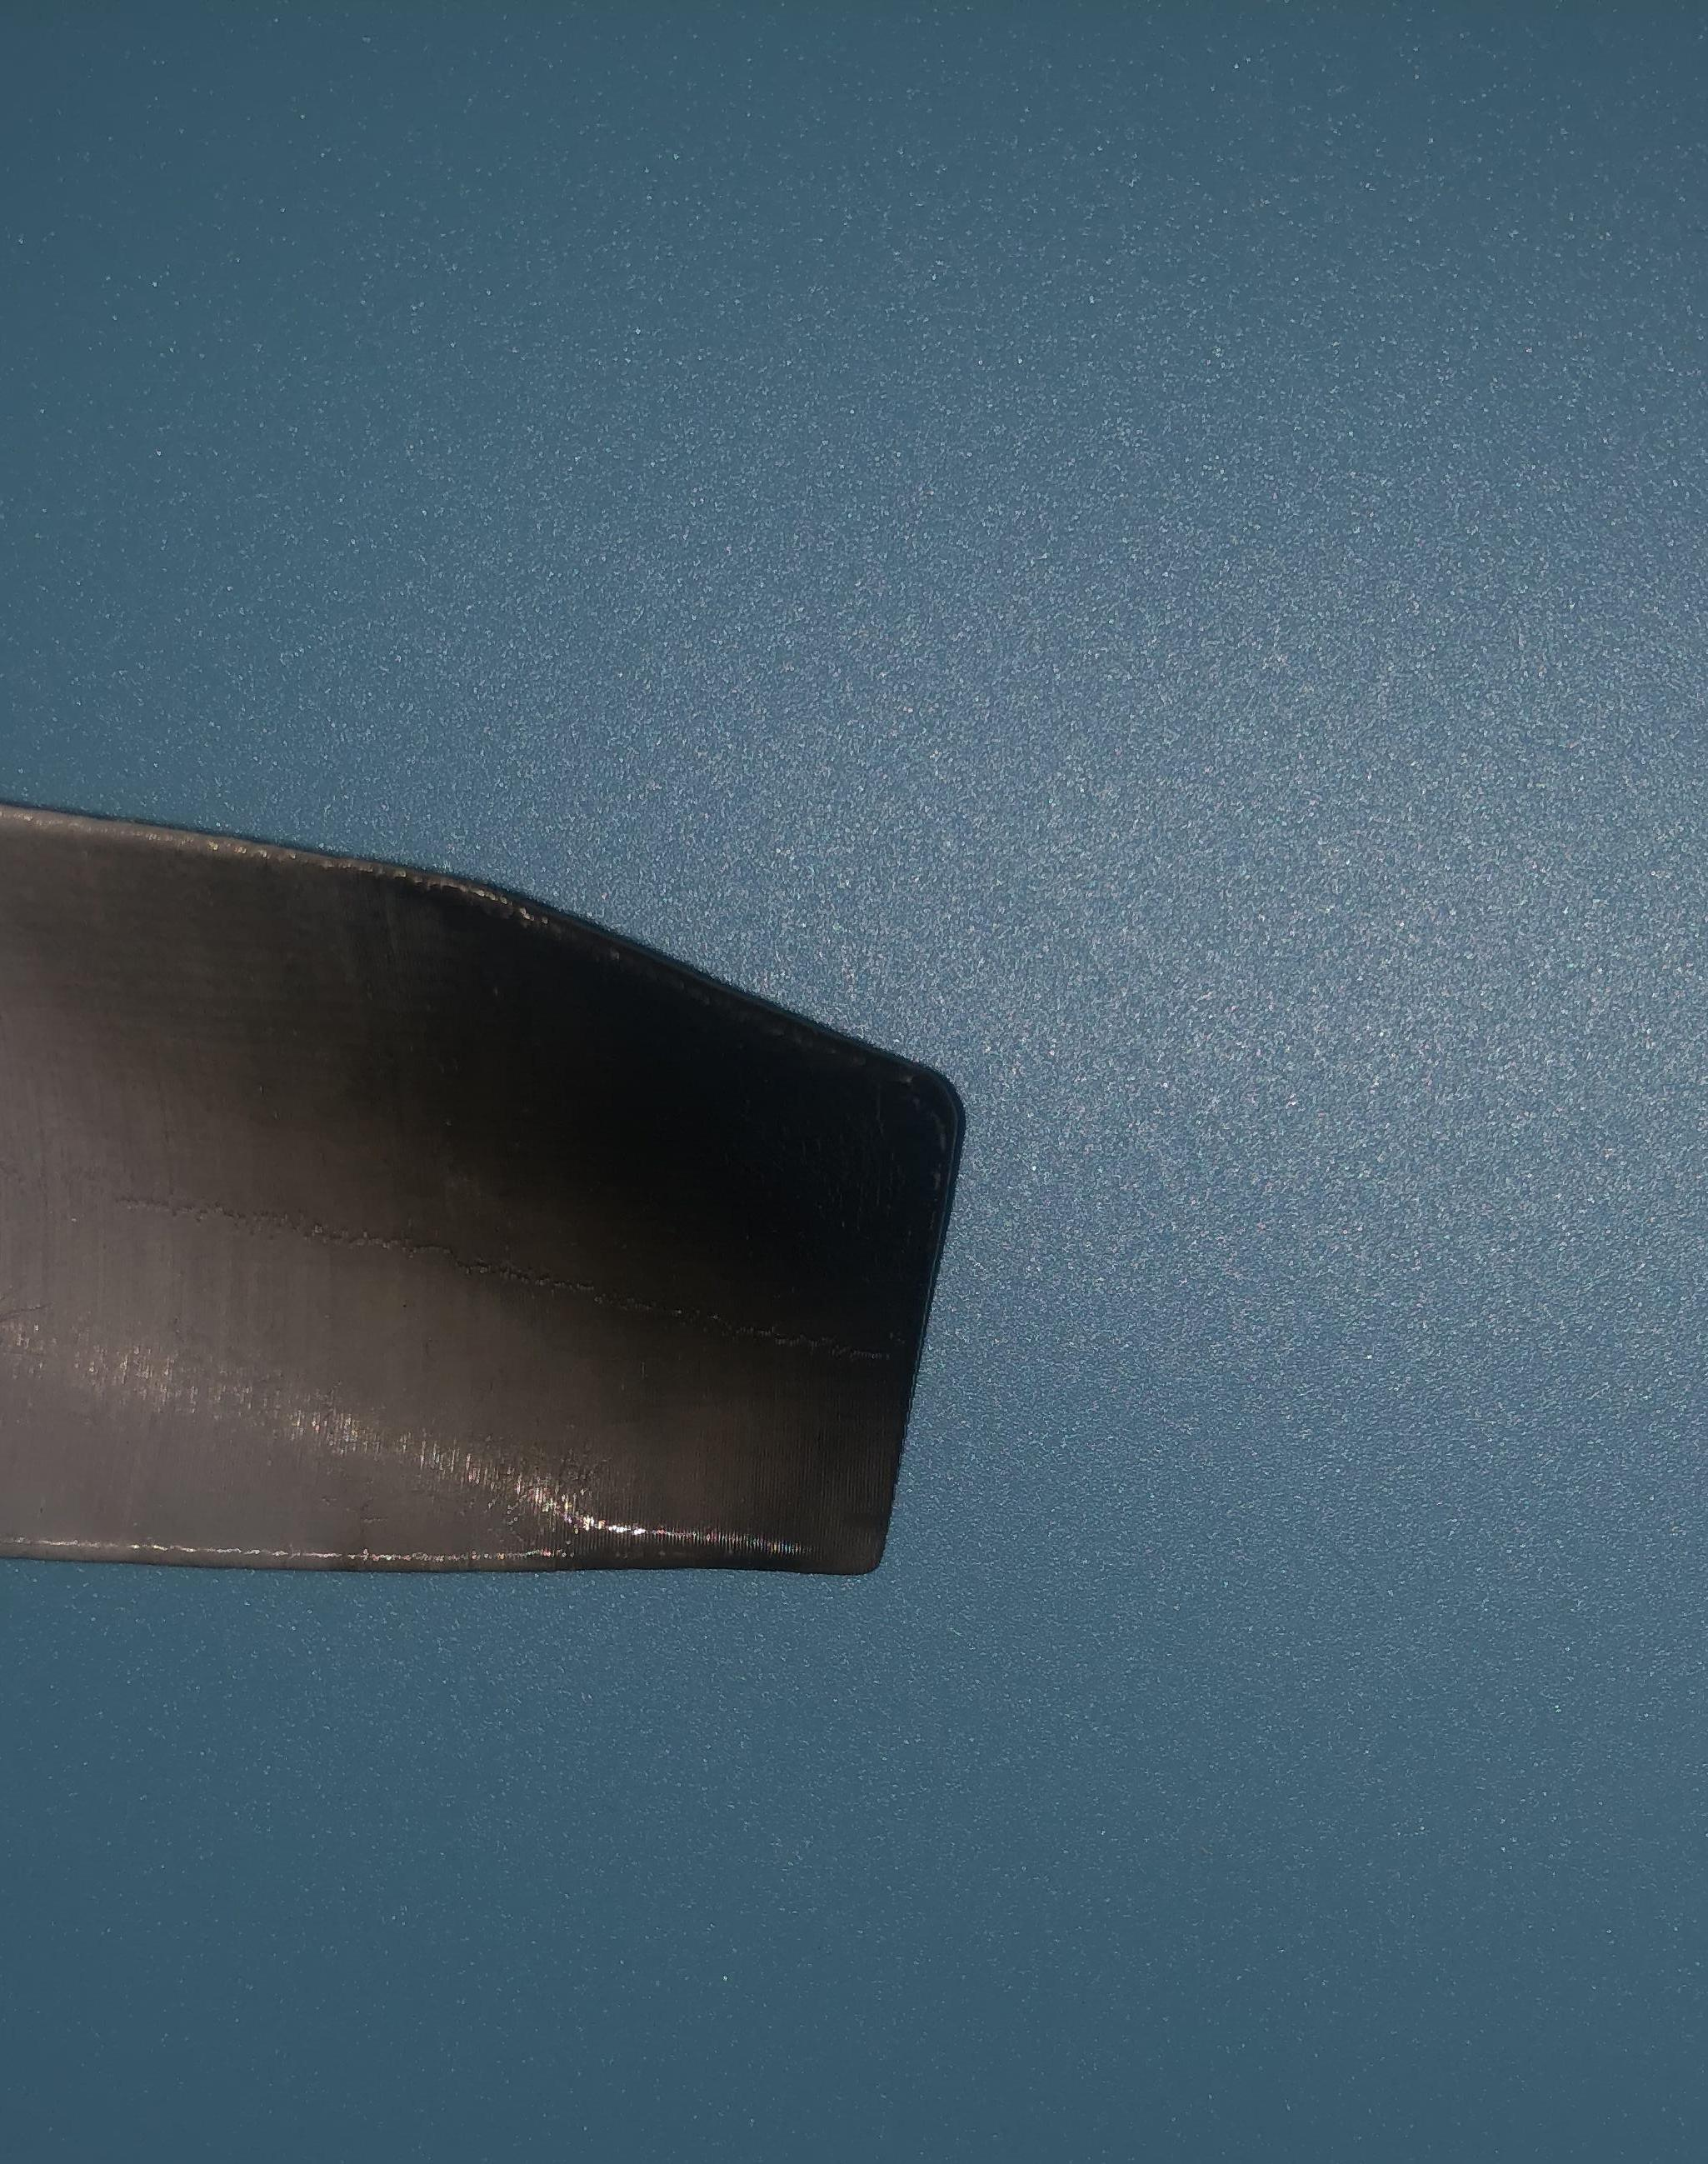ablation: (460, 934, 878, 1437)
